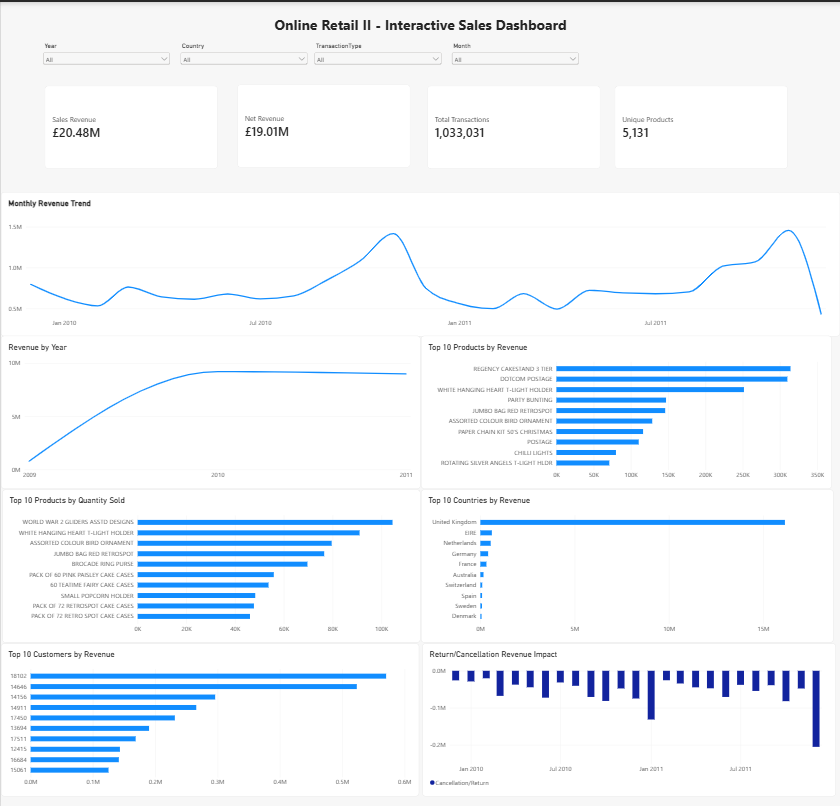

This screenshot's page, from the dashboard's own definition file:
{"tool":"powerbi","page":{"name":"Page 1","canvas":[1920,1850],"ordinal":0},"visuals":[{"type":"cardVisual","fields":{"Data":["online_retail_II_cleaned.Sales Revenue"]},"box":[99.9,191.4,396.7,190],"z":0},{"type":"cardVisual","fields":{"Data":["online_retail_II_cleaned.Net Revenue"]},"box":[540.6,189.6,396.4,190],"z":1000},{"type":"cardVisual","fields":{"Data":["online_retail_II_cleaned.Total Transactions"]},"box":[975,192.5,396.4,190],"z":2000},{"type":"cardVisual","fields":{"Data":["online_retail_II_cleaned.Total Products"]},"box":[1405,192.5,396.4,190],"z":3000},{"type":"textbox","box":[0,30,1920,62.5],"z":4000},{"type":"slicer","fields":{"Values":["online_retail_II_cleaned.Year"]},"box":[92.8,92.8,300,100],"z":5000},{"type":"lineChart","title":"Monthly Revenue Trend","fields":{"Category":["online_retail_II_cleaned.YearMonth"],"Y":["Sum(online_retail_II_cleaned.Revenue)"]},"box":[0,423.3,1919.2,331.8],"z":6000},{"type":"lineChart","title":"Revenue by Year","fields":{"Category":["online_retail_II_cleaned.Year"],"Y":["Sum(online_retail_II_cleaned.Revenue)"]},"box":[0,764.3,950,350.8],"z":7000},{"type":"clusteredBarChart","title":"Top 10 Products by Revenue","fields":{"Category":["online_retail_II_cleaned.Description"],"Y":["Sum(online_retail_II_cleaned.Revenue)"]},"box":[960,764.3,946,350.8],"z":8000},{"type":"clusteredBarChart","title":"Top 10 Products by Quantity Sold","fields":{"Category":["online_retail_II_cleaned.Description"],"Y":["Sum(online_retail_II_cleaned.Quantity)"]},"box":[3.3,1116.7,950,350],"z":9000},{"type":"clusteredBarChart","title":"Top 10 Countries by Revenue","fields":{"Category":["online_retail_II_cleaned.Country"],"Y":["Sum(online_retail_II_cleaned.Revenue)"]},"box":[960,1116.7,946,350],"z":10000},{"type":"clusteredBarChart","title":"Top 10 Customers by Revenue","fields":{"Category":["online_retail_II_cleaned.Customer ID"],"Y":["Sum(online_retail_II_cleaned.Revenue)"]},"box":[0,1466.7,950,350],"z":11000},{"type":"clusteredColumnChart","title":"Return/Cancellation Revenue Impact","fields":{"Category":["online_retail_II_cleaned.YearMonth"],"Series":["online_retail_II_cleaned.TransactionType"],"Y":["Sum(online_retail_II_cleaned.Revenue)"]},"box":[963.3,1466.7,946,350],"z":12000},{"type":"slicer","fields":{"Values":["online_retail_II_cleaned.Country"]},"box":[406.4,92.8,300,100],"z":13000},{"type":"slicer","fields":{"Values":["online_retail_II_cleaned.TransactionType"]},"box":[713.6,92.8,300.8,100],"z":14000},{"type":"slicer","fields":{"Values":["online_retail_II_cleaned.MonthName"]},"box":[1025.7,92.9,300,100],"z":15000}]}

Visuals, with their boxes in screenshot pixels (x1, y1, x2, y2), scaled from the page's 1920x1850 canvas onto the 840x806 screenshot:
cardVisual - online_retail_II_cleaned.Sales Revenue: (44, 83, 217, 166)
cardVisual - online_retail_II_cleaned.Net Revenue: (237, 83, 410, 165)
cardVisual - online_retail_II_cleaned.Total Transactions: (427, 84, 600, 167)
cardVisual - online_retail_II_cleaned.Total Products: (615, 84, 788, 167)
textbox: (0, 13, 839, 40)
slicer - online_retail_II_cleaned.Year: (41, 40, 172, 84)
"Monthly Revenue Trend" lineChart: (0, 184, 839, 329)
"Revenue by Year" lineChart: (0, 333, 416, 486)
"Top 10 Products by Revenue" clusteredBarChart: (420, 333, 834, 486)
"Top 10 Products by Quantity Sold" clusteredBarChart: (1, 487, 417, 639)
"Top 10 Countries by Revenue" clusteredBarChart: (420, 487, 834, 639)
"Top 10 Customers by Revenue" clusteredBarChart: (0, 639, 416, 791)
"Return/Cancellation Revenue Impact" clusteredColumnChart: (421, 639, 835, 791)
slicer - online_retail_II_cleaned.Country: (178, 40, 309, 84)
slicer - online_retail_II_cleaned.TransactionType: (312, 40, 444, 84)
slicer - online_retail_II_cleaned.MonthName: (449, 40, 580, 84)
